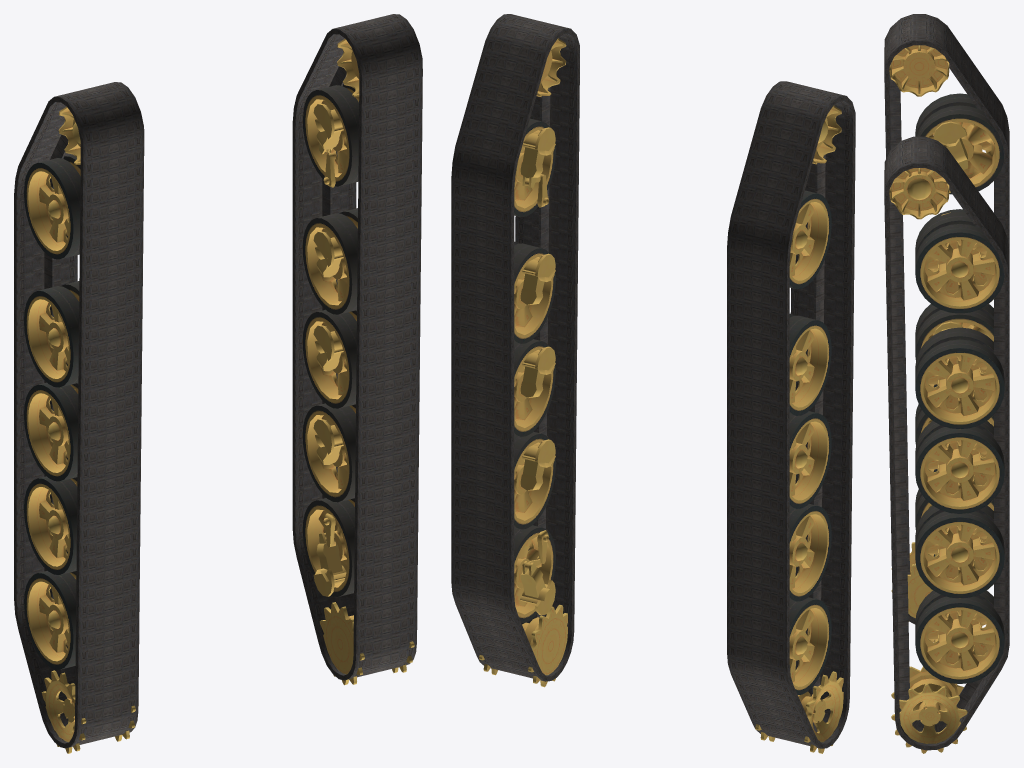
Rendered from Chassis.glb.
3 renders of one model, left to right at view 1: azimuth 30°, elevation 25°; view 2: azimuth 150°, elevation 25°; view 3: azimuth 270°, elevation 25°, orthographic. The views are drawn at different scales.
Parts seen in each view (by area): view 1: set_0_group_0, set_1_group_0, set_3_group_0, set_2_group_0; view 2: set_0_group_0, set_1_group_0, set_3_group_0, set_2_group_0; view 3: set_3_group_0, set_1_group_0, set_2_group_0, set_0_group_0.
Part boxes in pixels (x1=…): set_0_group_0: x1=14, y1=82, x2=144, y2=748; set_1_group_0: x1=292, y1=14, x2=422, y2=680; set_3_group_0: x1=302, y1=38, x2=414, y2=685; set_2_group_0: x1=24, y1=106, x2=135, y2=753; set_0_group_0: x1=727, y1=81, x2=855, y2=748; set_1_group_0: x1=451, y1=14, x2=579, y2=681; set_3_group_0: x1=479, y1=38, x2=567, y2=687; set_2_group_0: x1=755, y1=105, x2=843, y2=753; set_3_group_0: x1=889, y1=168, x2=1004, y2=753; set_1_group_0: x1=884, y1=136, x2=1009, y2=750; set_2_group_0: x1=889, y1=45, x2=1004, y2=621; set_0_group_0: x1=884, y1=14, x2=1009, y2=624.
Bounding box in the file's own units: 3.2 × 5.91 × 1.13.
Materials: 4 (4 with a texture image).
